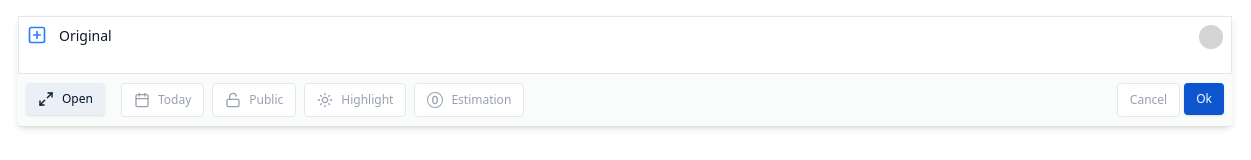
Test case: TaskForm Component › should switch to "Save" state when editing existing task
Replace the text in the text box showing "Original" with "Original Modified" at x=623, y=36, box [59,25,1187,48]
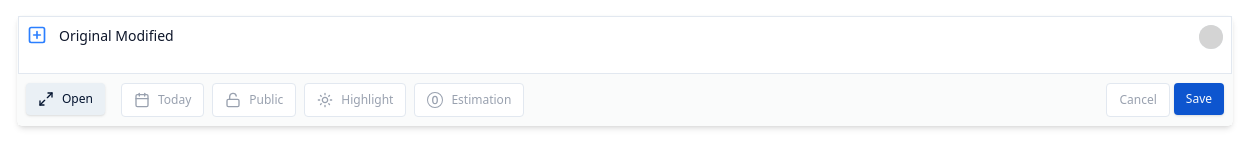
Now the text "Save" is shown, box [1186,91,1212,107]
